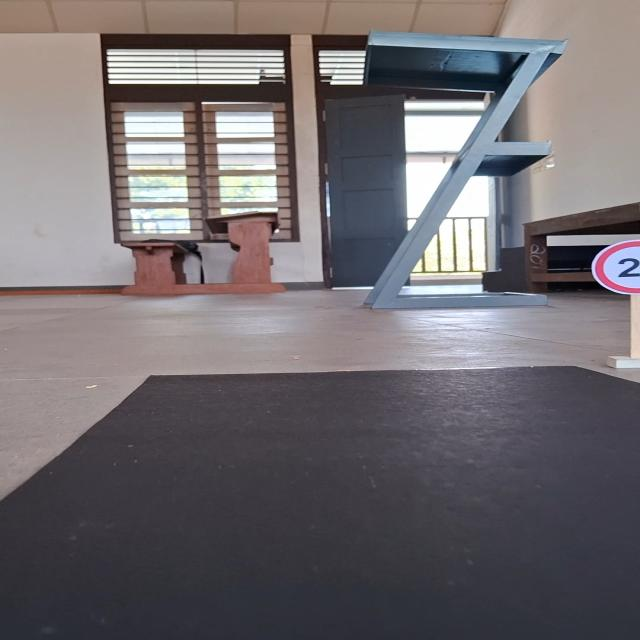Speed20: (584, 235, 640, 298)
